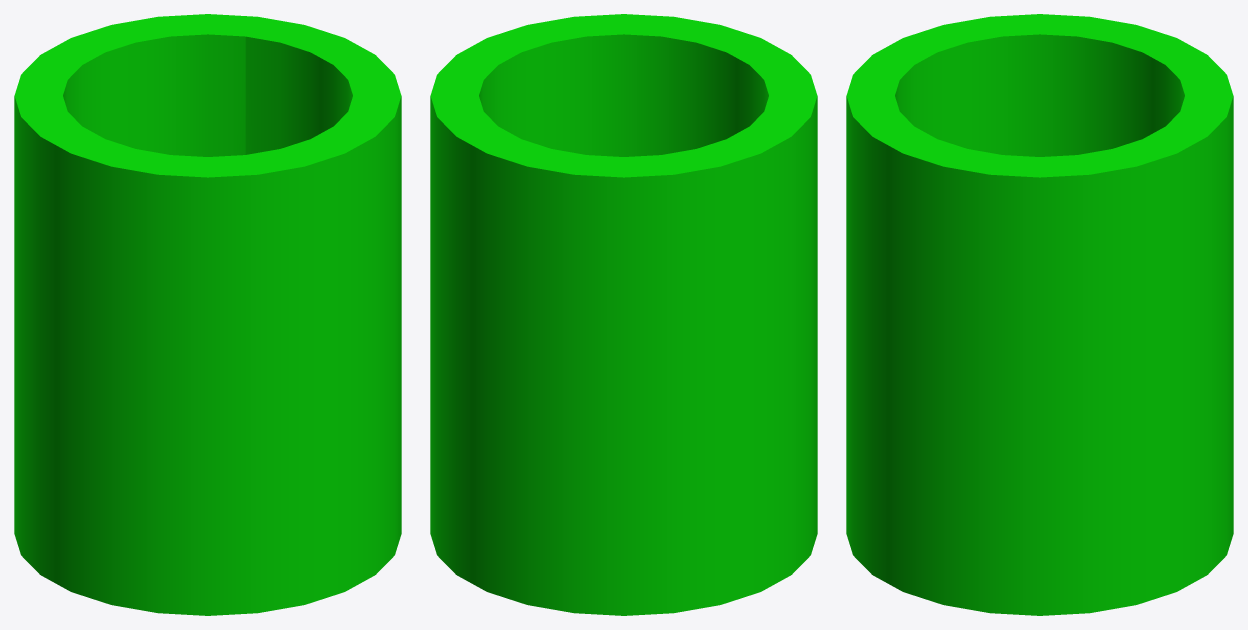
The model's file is Pipe_Base.fbx.
The picture shows the model from 3 angles, left to right: view 1: azimuth 30°, elevation 25°; view 2: azimuth 150°, elevation 25°; view 3: azimuth 270°, elevation 25°; orthographic projection.
Parts seen in each view (by area): view 1: pCylinder6; view 2: pCylinder6; view 3: pCylinder6.
Part boxes in pixels (x1,y1,x2,y2): pCylinder6: [14, 14, 401, 615]; pCylinder6: [430, 14, 817, 615]; pCylinder6: [846, 14, 1233, 615].
Bounding box in the file's own units: 0.8 × 1 × 0.8.
